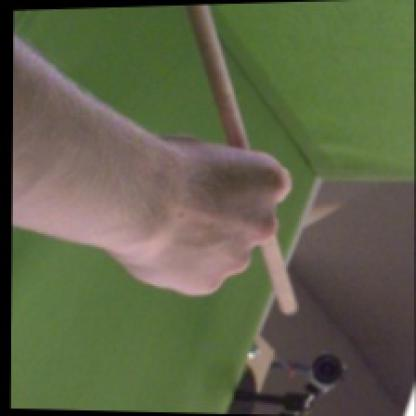Hand: (117, 136, 292, 297)
